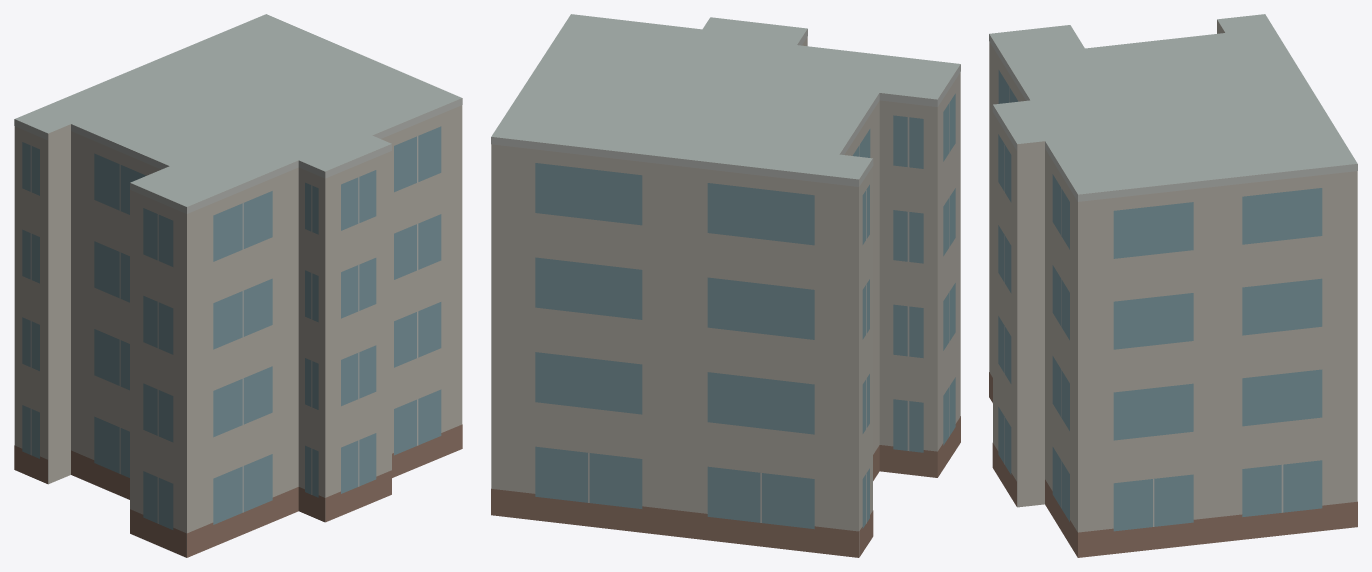
File: residential-52e270c0-7a4e-4d26-8b62-3e6c65bd4d16.glb
The picture shows the model from 3 angles, left to right: view 1: azimuth 30°, elevation 25°; view 2: azimuth 150°, elevation 25°; view 3: azimuth 270°, elevation 25°; orthographic projection. The views are drawn at different scales.
Parts seen in each view (by area): view 1: residential-52e270c0-7a4e-4d26-8b62-3e6c65bd4d16.tmp; view 2: residential-52e270c0-7a4e-4d26-8b62-3e6c65bd4d16.tmp; view 3: residential-52e270c0-7a4e-4d26-8b62-3e6c65bd4d16.tmp.
Part boxes in pixels (x1=…): residential-52e270c0-7a4e-4d26-8b62-3e6c65bd4d16.tmp: x1=14, y1=14, x2=462, y2=557; residential-52e270c0-7a4e-4d26-8b62-3e6c65bd4d16.tmp: x1=491, y1=14, x2=960, y2=557; residential-52e270c0-7a4e-4d26-8b62-3e6c65bd4d16.tmp: x1=989, y1=14, x2=1357, y2=557.
Bounding box in the file's own units: 13.02 × 12.2 × 11.23.
